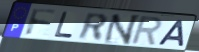A: (155, 19, 185, 48)
F: (24, 7, 58, 38)
L: (53, 11, 75, 40)
N: (101, 14, 142, 46)
R: (129, 15, 165, 47), (77, 11, 109, 42)
